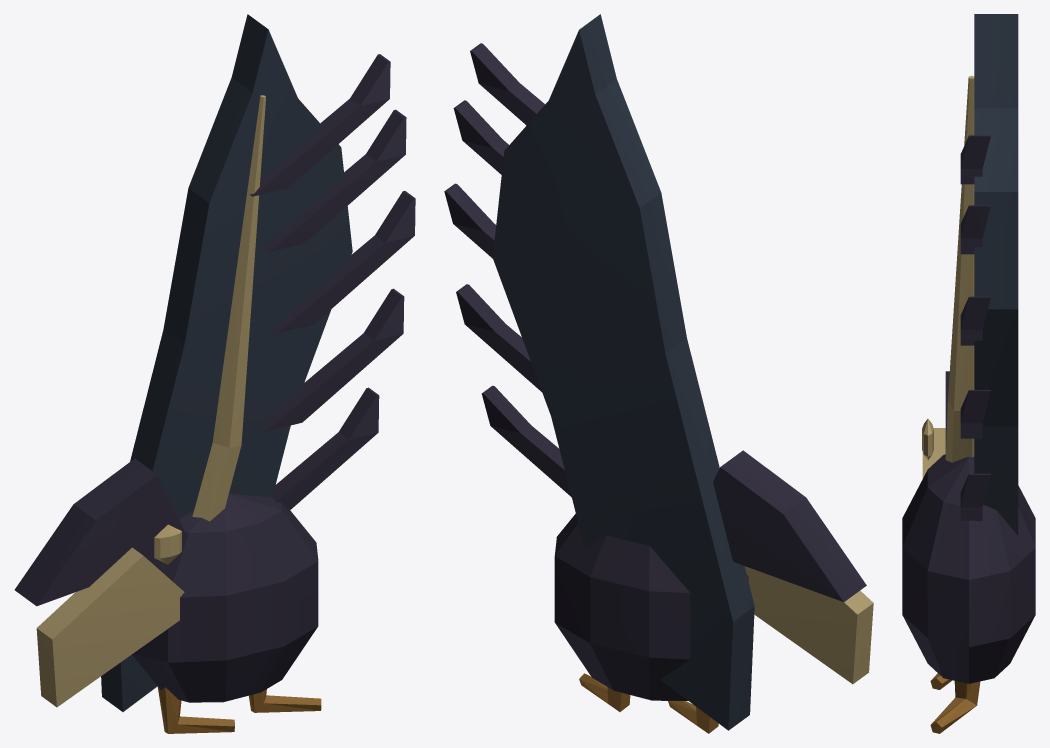
The model's file is raven_quill.fbx.
The picture shows the model from 3 angles, left to right: view 1: azimuth 30°, elevation 25°; view 2: azimuth 150°, elevation 25°; view 3: azimuth 270°, elevation 25°; orthographic projection. The views are drawn at different scales.
Visible parts, largest first — view 1: raven_quill; view 2: raven_quill; view 3: raven_quill.
Boxes of the visible parts, x1=… form: raven_quill: x1=14, y1=14, x2=415, y2=733; raven_quill: x1=444, y1=14, x2=873, y2=733; raven_quill: x1=902, y1=14, x2=1035, y2=733.
Size of the model in its own units: 1.72 by 2.84 by 0.4884.
